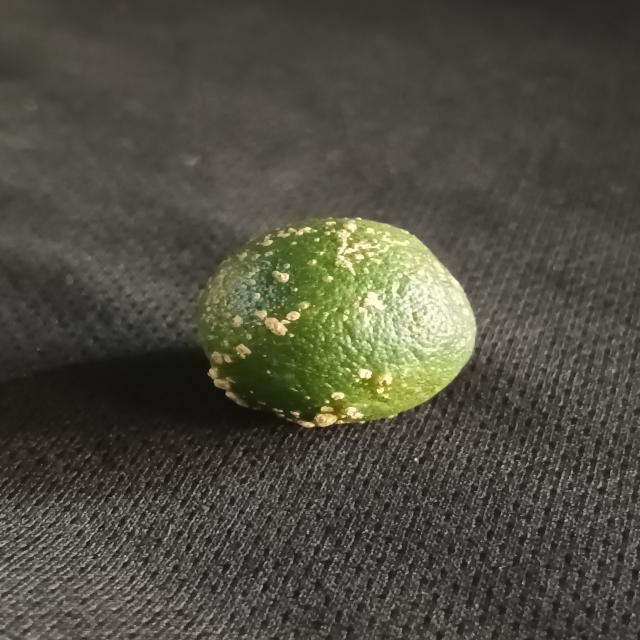scab: (192, 216, 481, 430)
